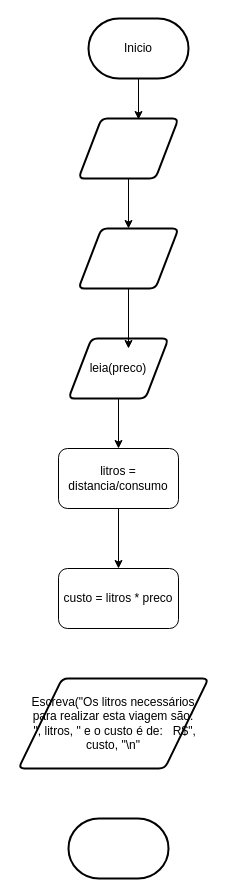
Some shapes in this 226 by 896 pixel diagram are drawn without their labels. Here are the shapes that lost their labels. From the top down, the centre of each, then its label:
At point (128, 148): "leia(distancia)".
At point (128, 258): "leia(consumo)".
At point (118, 848): "Fim".
